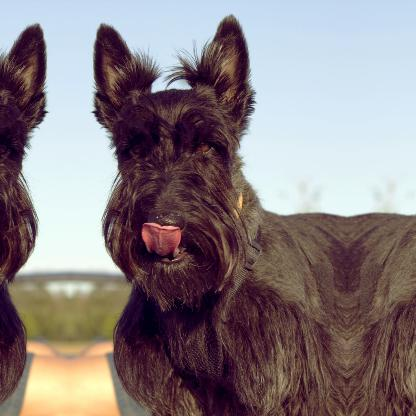Dog: (87, 11, 346, 415), (346, 11, 415, 416), (0, 11, 52, 416)
